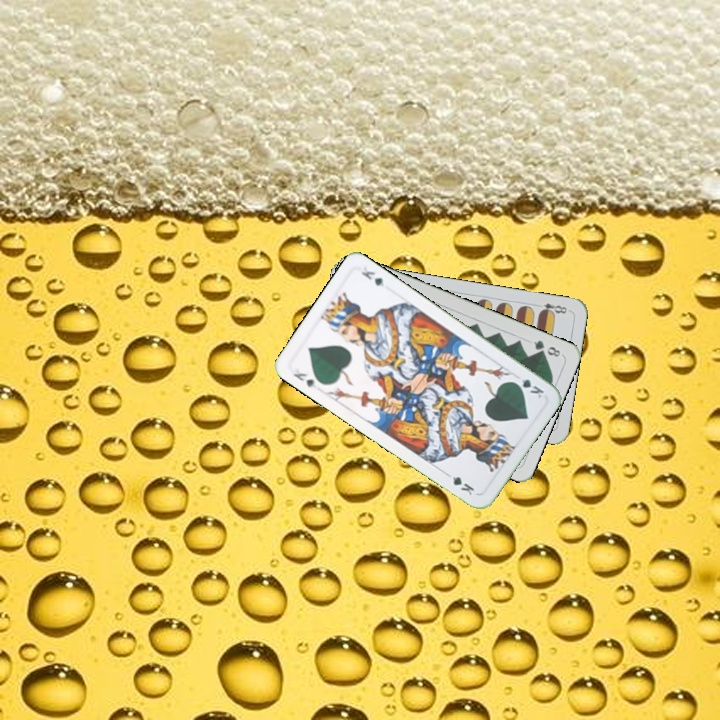E8: (531, 299, 572, 318)
G8: (529, 336, 565, 359)
GK: (508, 375, 547, 401), (289, 364, 320, 391)
